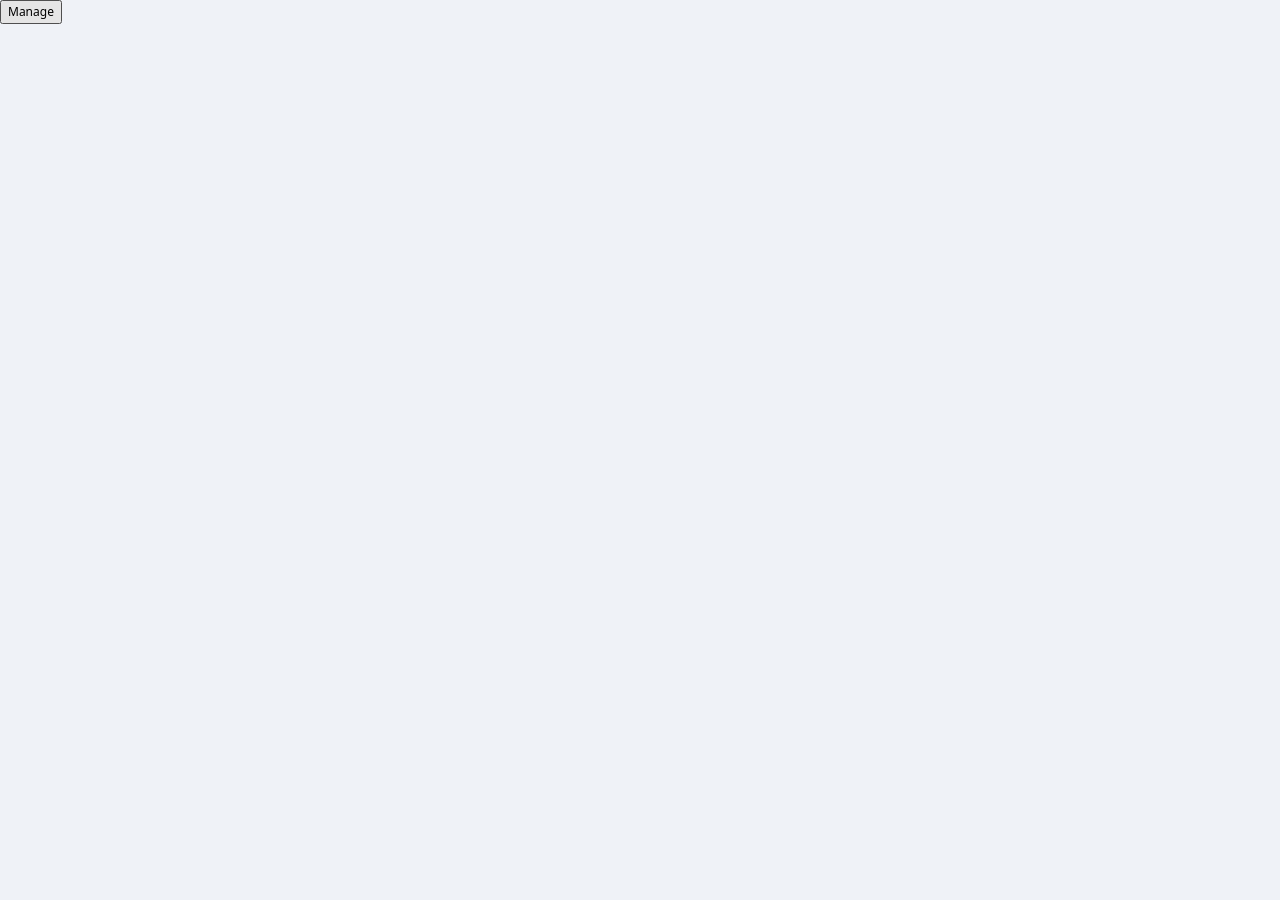
it: uses one popup for management and removal, then restores keyboard focus on close
The width and height of the screenshot is (1280, 900).
Click the button with aria-label "Manage Sales.sqlite3".
click(31, 12)  # box [0,0,62,24]
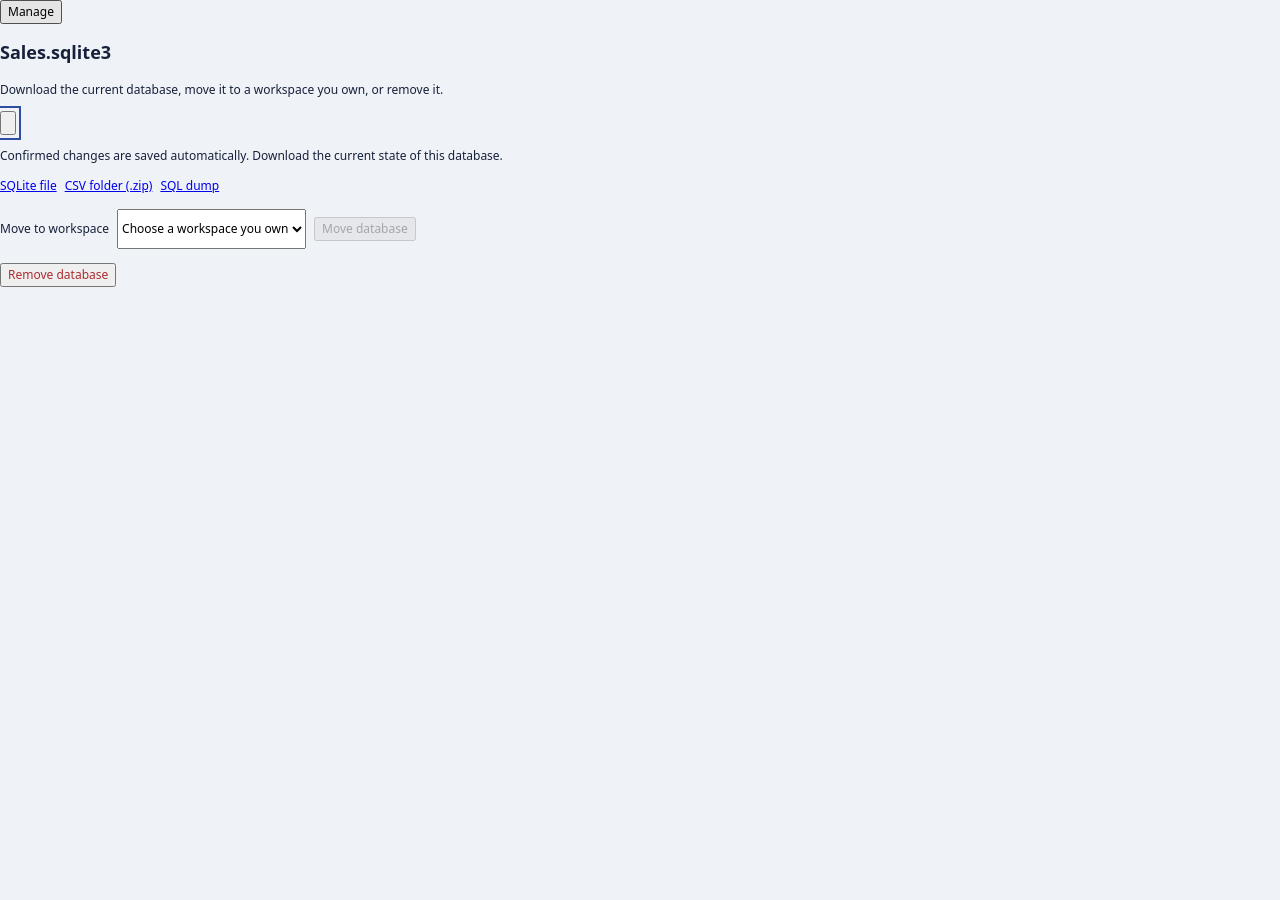
Check: the number of dialogs is 1, box [0,40,503,287]
Click the button "Remove database".
click(58, 275)  # box [0,263,116,287]
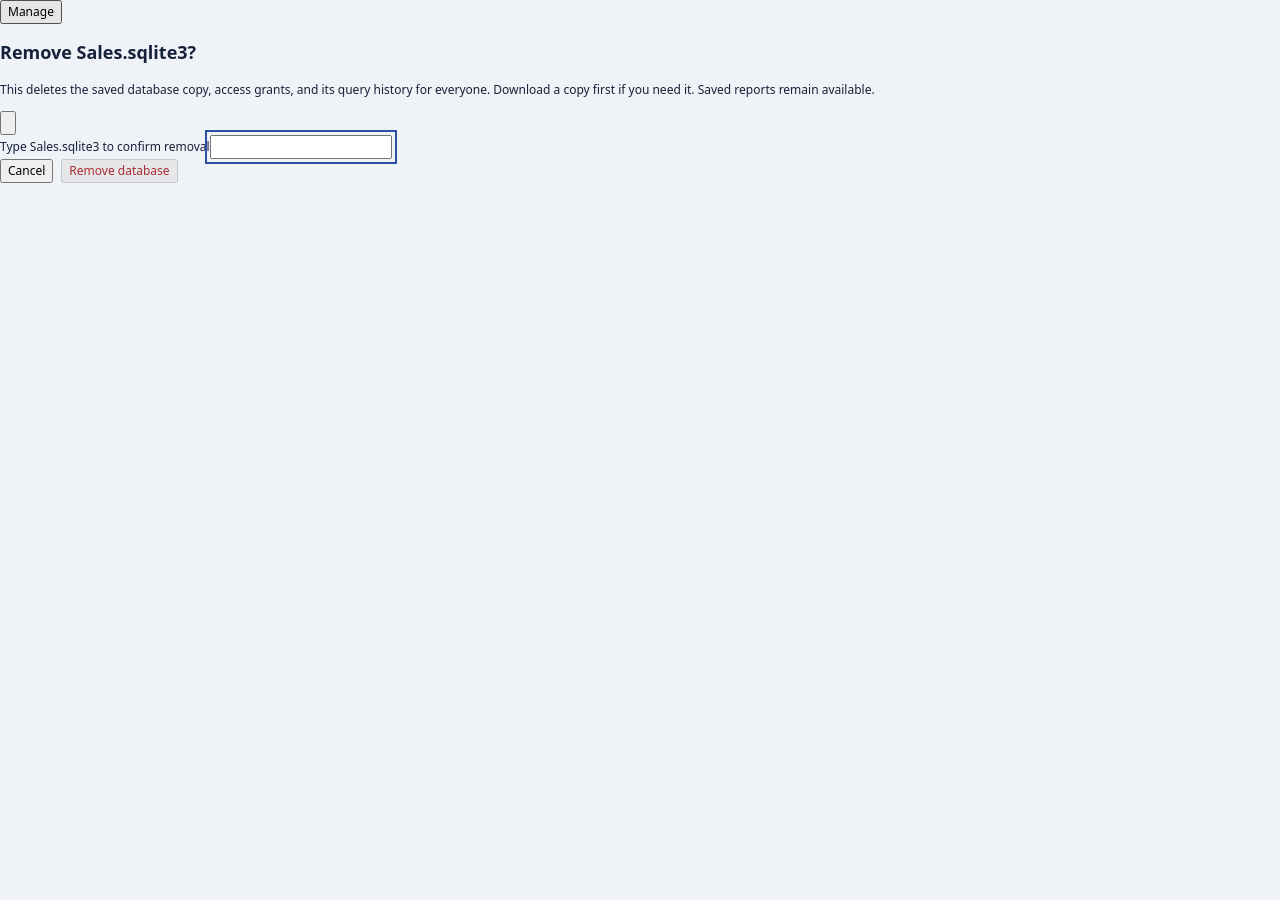
Check: the number of dialogs is 1, box [0,40,875,183]
Click the button "Cancel".
click(27, 171)  # box [0,159,53,183]
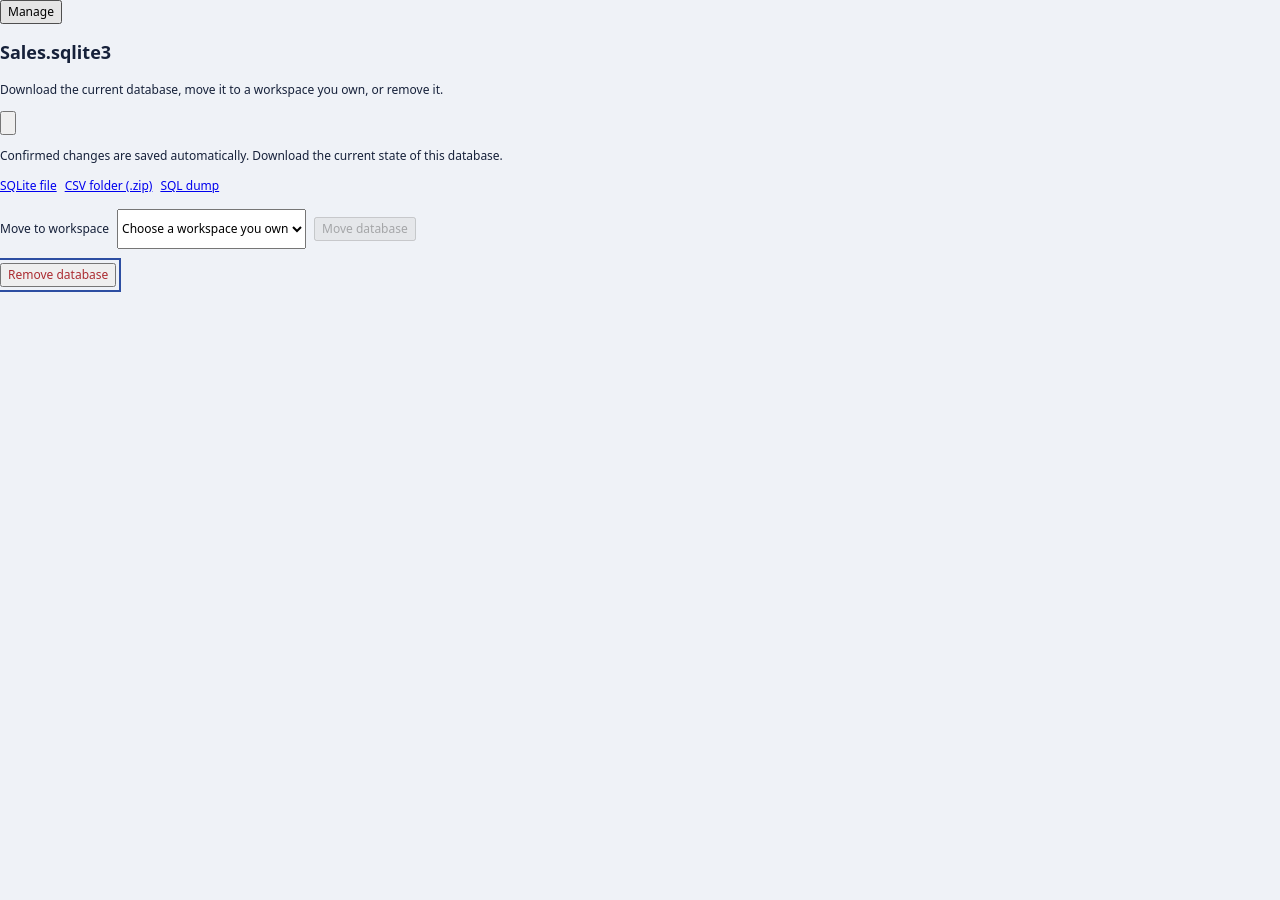
Press Escape
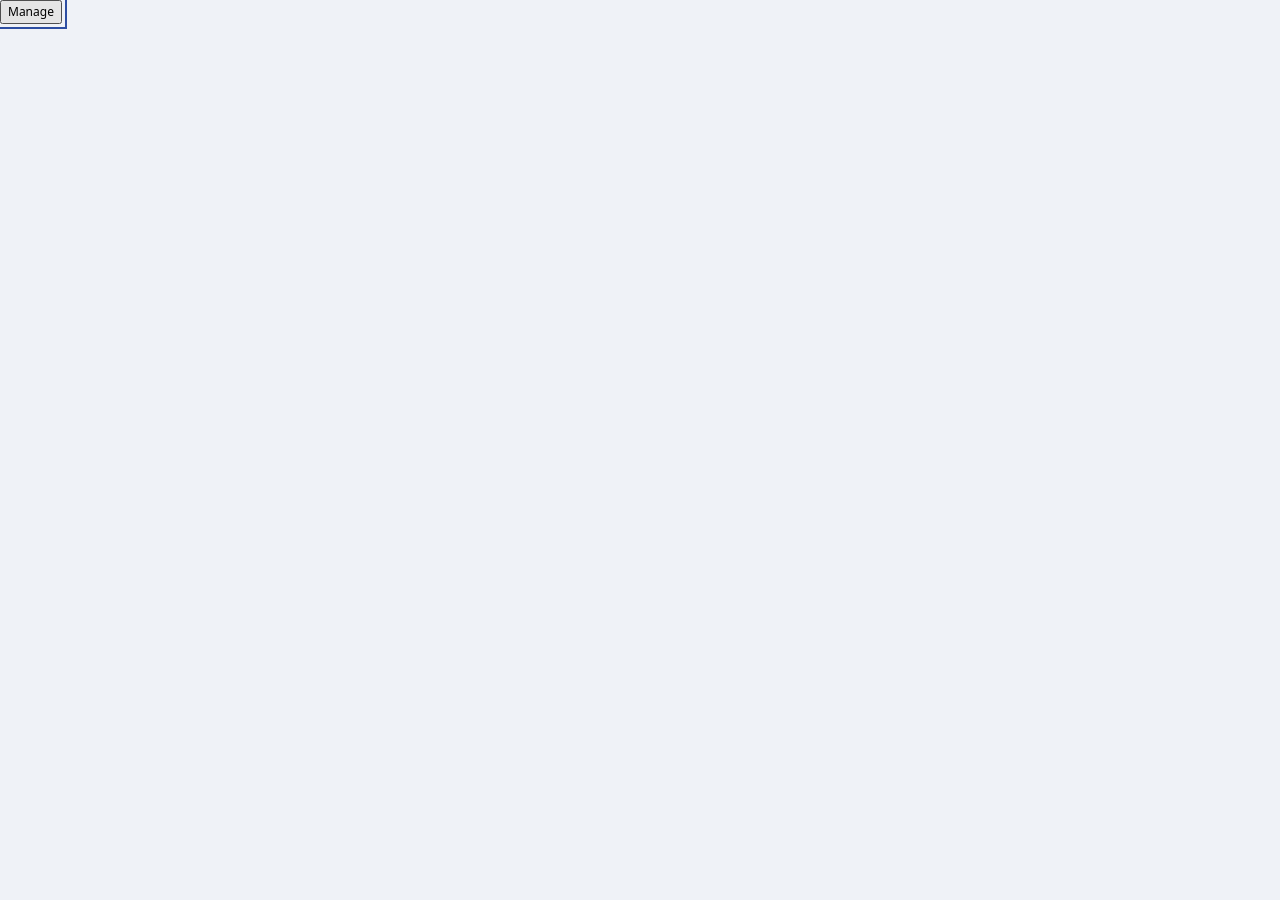
Check: the dialog is gone
